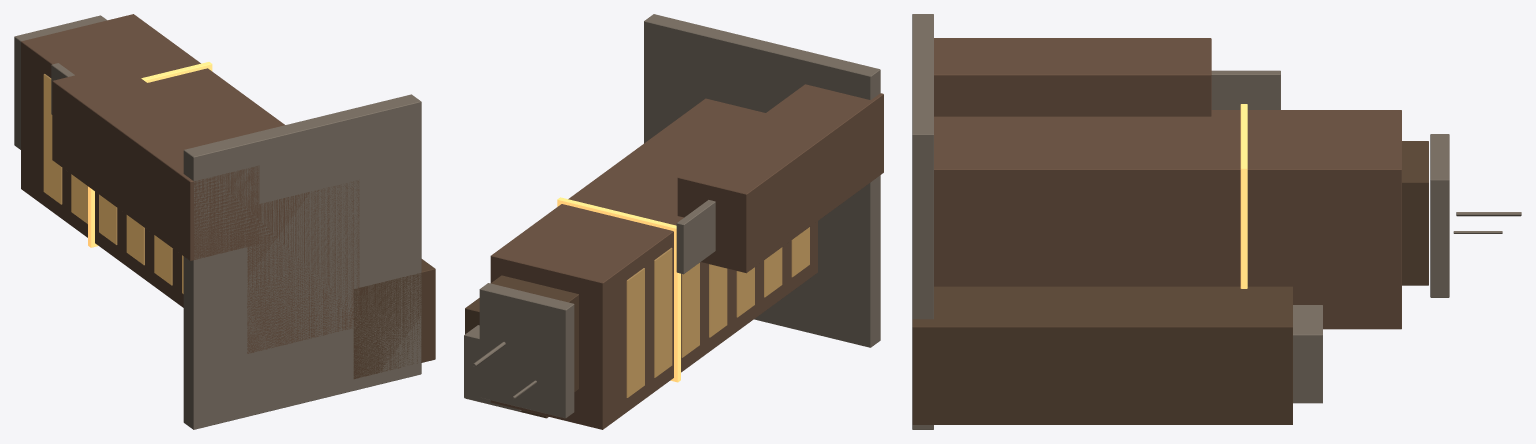
File: mass_tower_cluster_canyon_r.glb
3 renders of one model, left to right at view 1: azimuth 30°, elevation 25°; view 2: azimuth 150°, elevation 25°; view 3: azimuth 270°, elevation 25°, orthographic. The views are drawn at different scales.
Visible parts, largest first — view 1: FlightKit_MassTower_canyon_R; view 2: FlightKit_MassTower_canyon_R; view 3: FlightKit_MassTower_canyon_R.
Boxes of the visible parts, x1,y1,x2,y2 form: FlightKit_MassTower_canyon_R: (14,14,435,429); FlightKit_MassTower_canyon_R: (464,14,883,429); FlightKit_MassTower_canyon_R: (912,14,1521,429).
Size of the model in its own units: 11.3 by 12 by 22.4.
